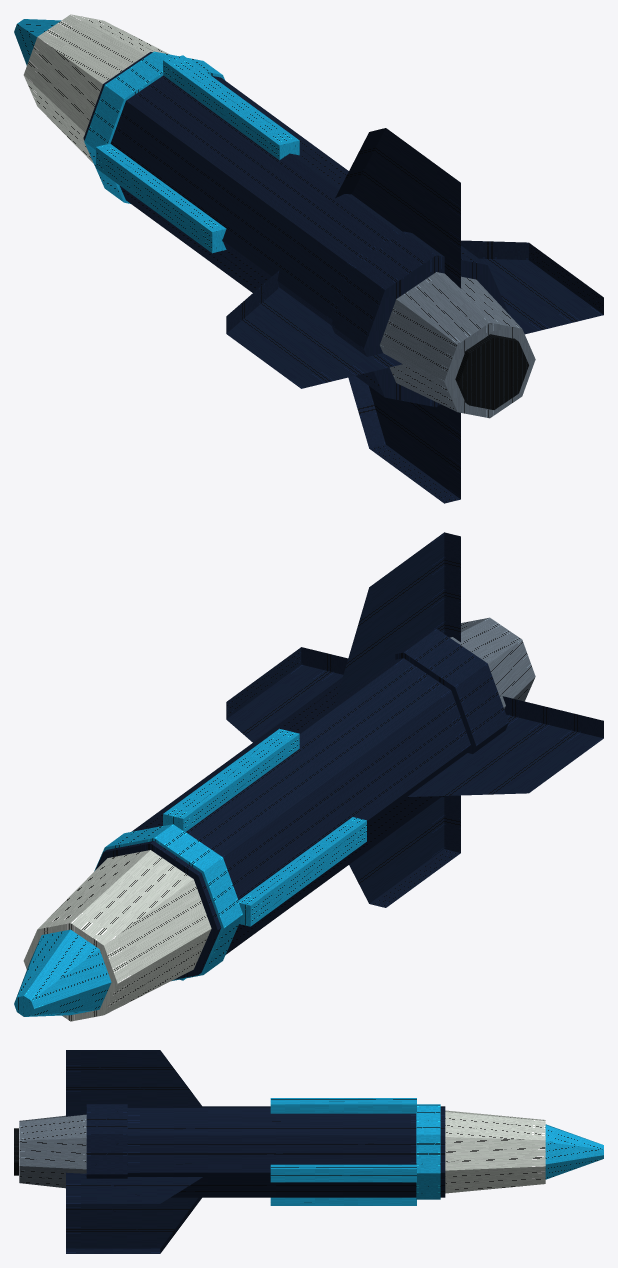
File: shield-seeker.glb
3 renders of one model, top to bottom at view 1: azimuth 30°, elevation 25°; view 2: azimuth 150°, elevation 25°; view 3: azimuth 270°, elevation 25°, orthographic. The views are drawn at different scales.
Parts seen in each view (by area): view 1: shield-seeker-ordnance; view 2: shield-seeker-ordnance; view 3: shield-seeker-ordnance.
Boxes of the visible parts, x1,y1,x2,y2 form: shield-seeker-ordnance: [14, 14, 603, 503]; shield-seeker-ordnance: [14, 532, 603, 1021]; shield-seeker-ordnance: [14, 1050, 603, 1253].
Size of the model in its own units: 0.9 by 0.9 by 2.42.
1 material, 1 textured.
